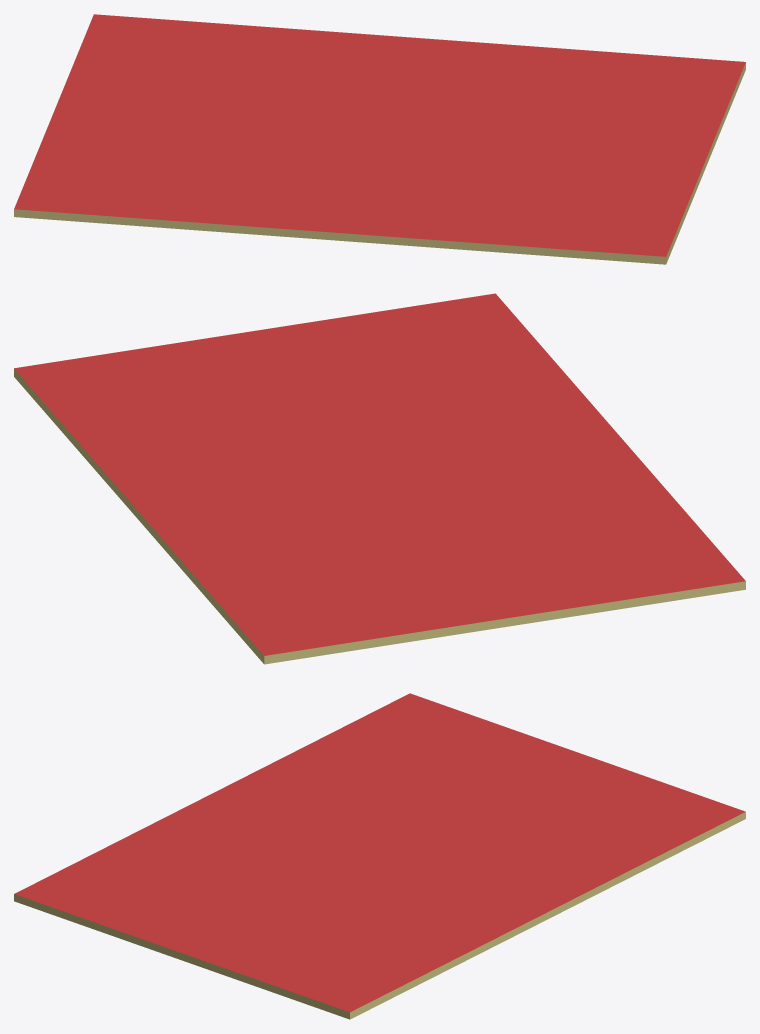
3 views of the same model, one above another, from view 1: azimuth 30°, elevation 25°; view 2: azimuth 150°, elevation 25°; view 3: azimuth 270°, elevation 25° (orthographic). The views are drawn at different scales.
Bounding box in the file's own units: 9.42 × 9.13 × 0.1.
